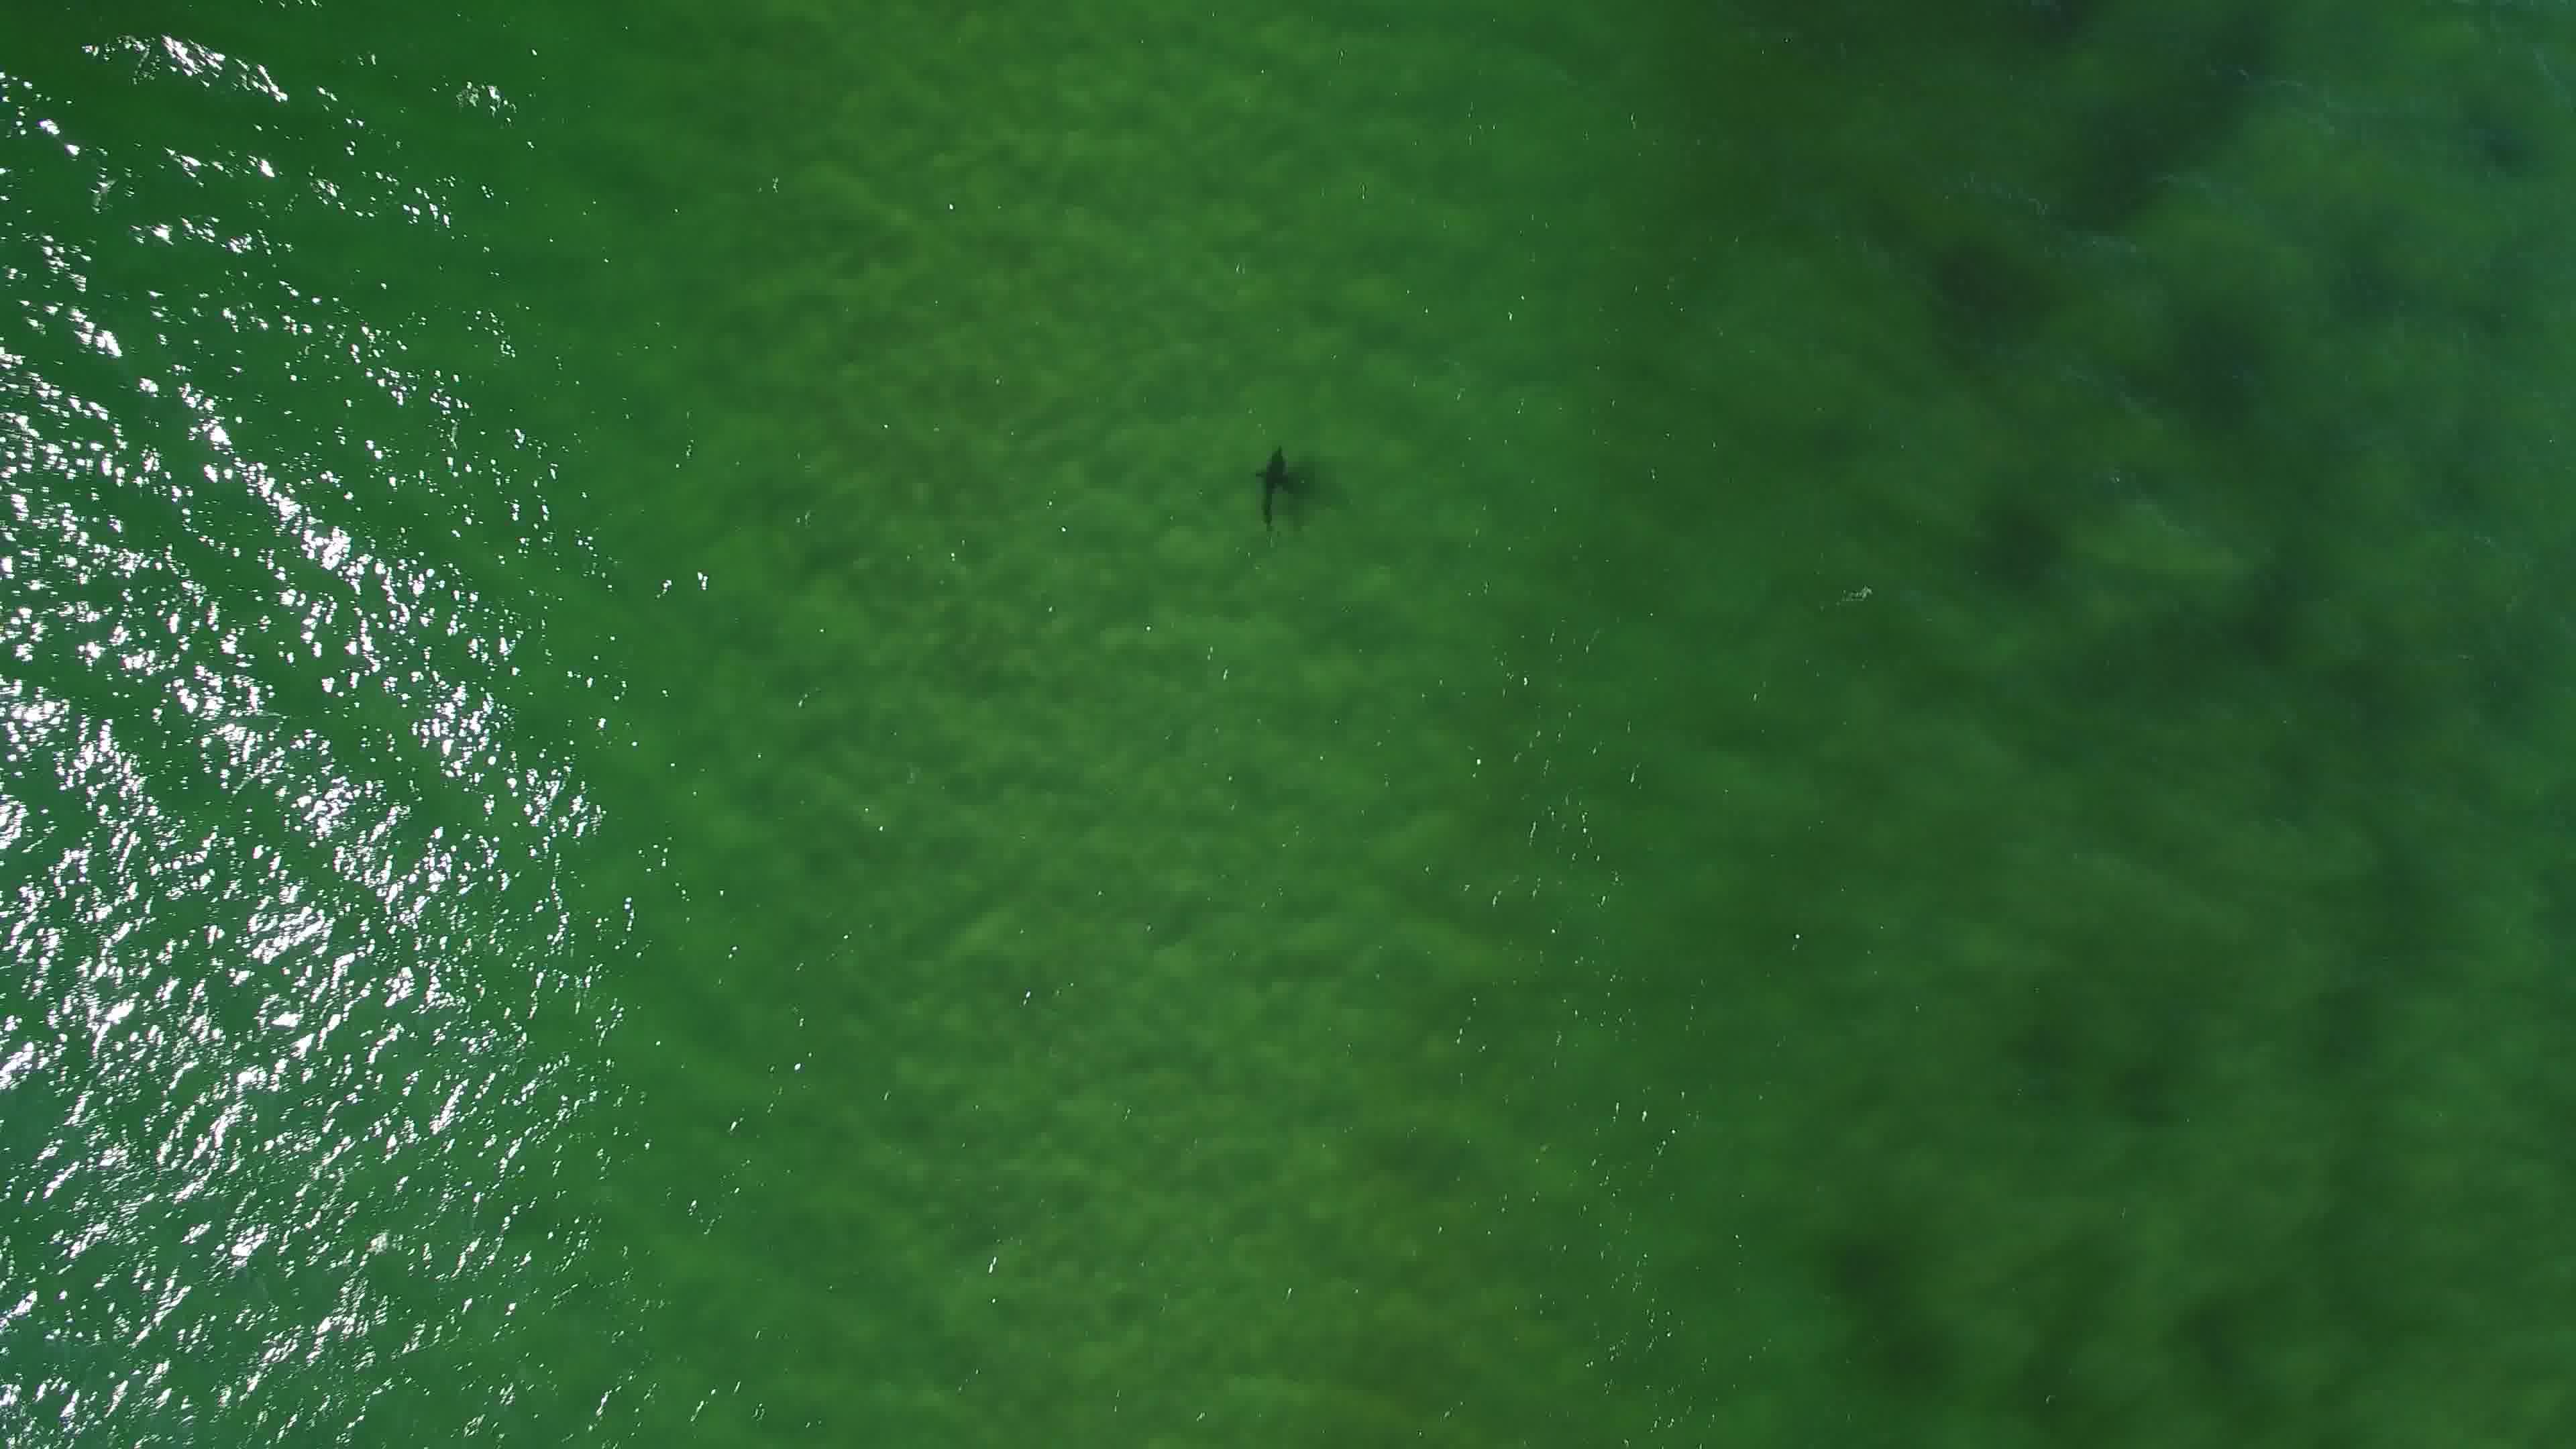shark: (1246, 441, 1304, 529)
